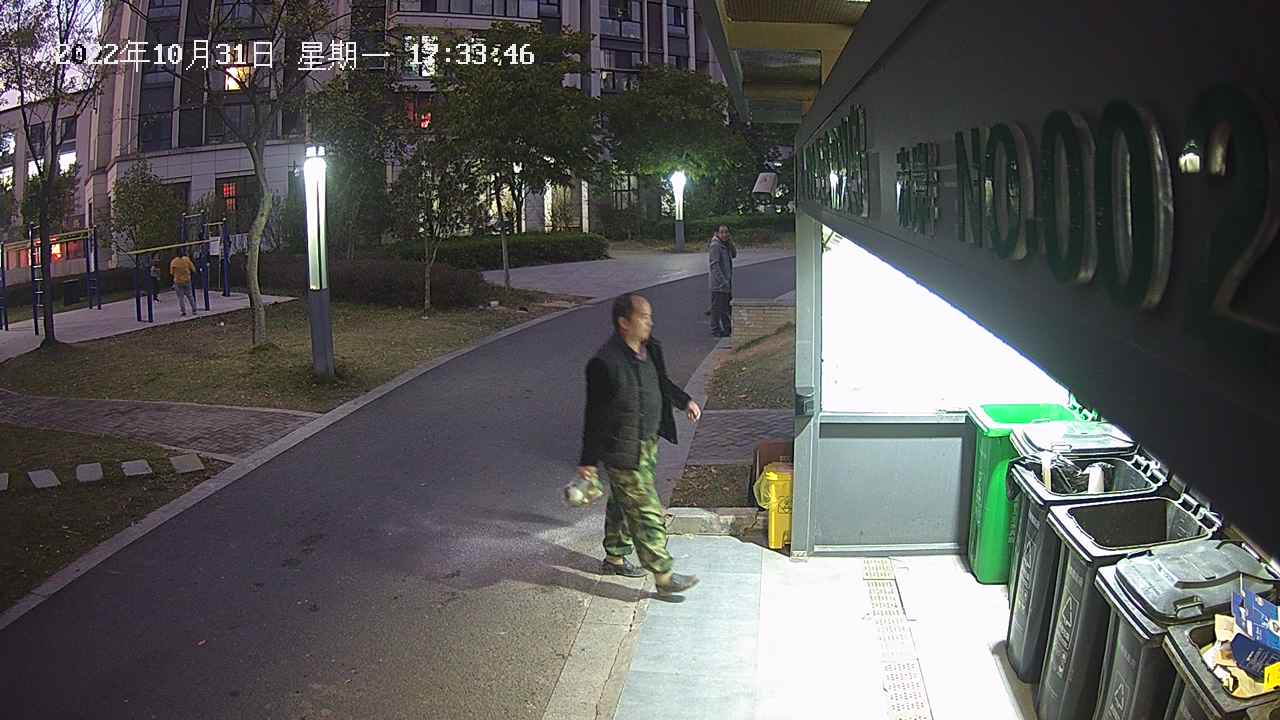garbage-bag: (562, 465, 605, 509)
person: (578, 292, 703, 601)
